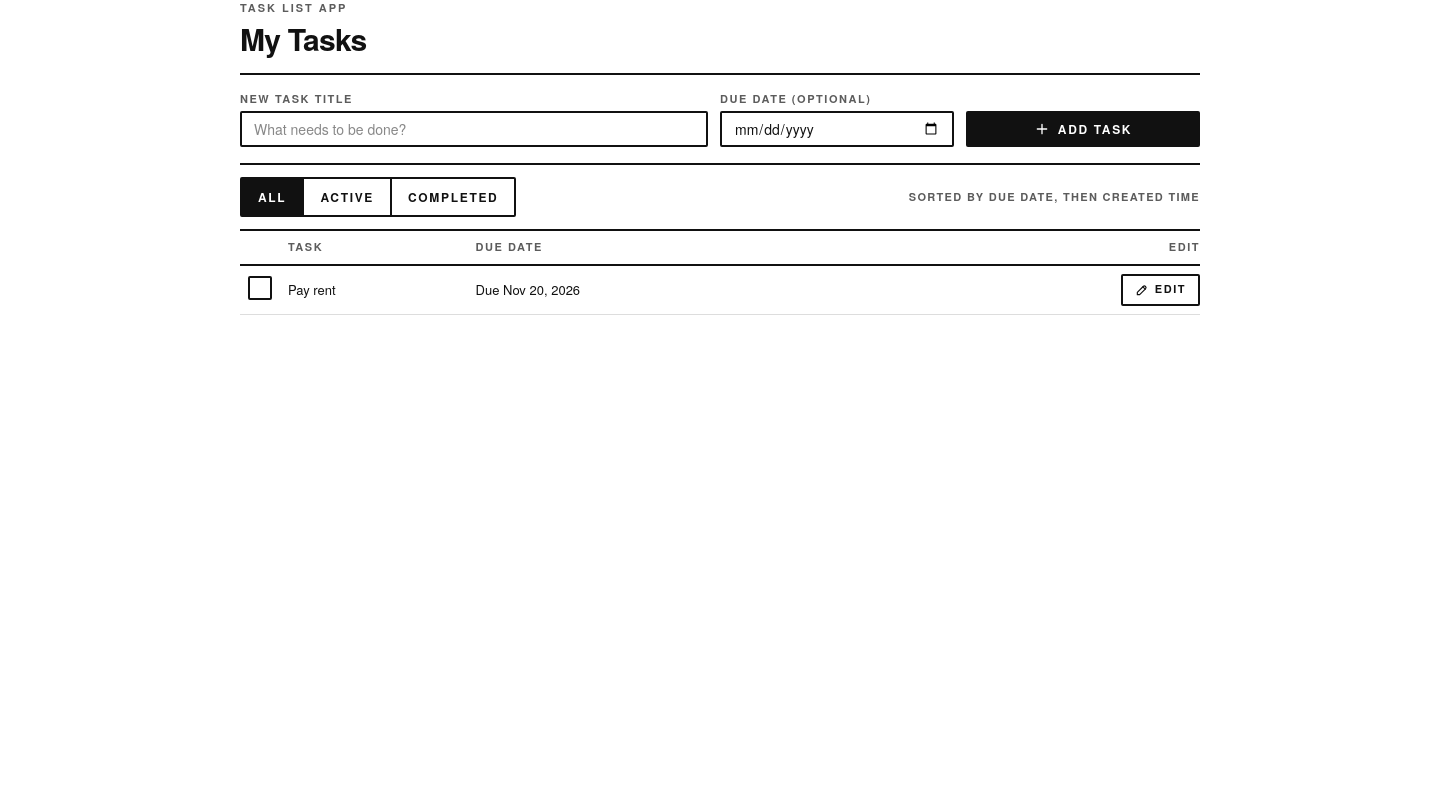
Test: Tasks screen › [AC-018] clearing the due date in the edit modal sends due_date: null and shows 'No due date'
Check: the text "Pay rent" is shown, box [288,280,336,299]
Click the button named "Edit \"Pay rent\"" at x=1160, y=290, box [1121,274,1200,306]
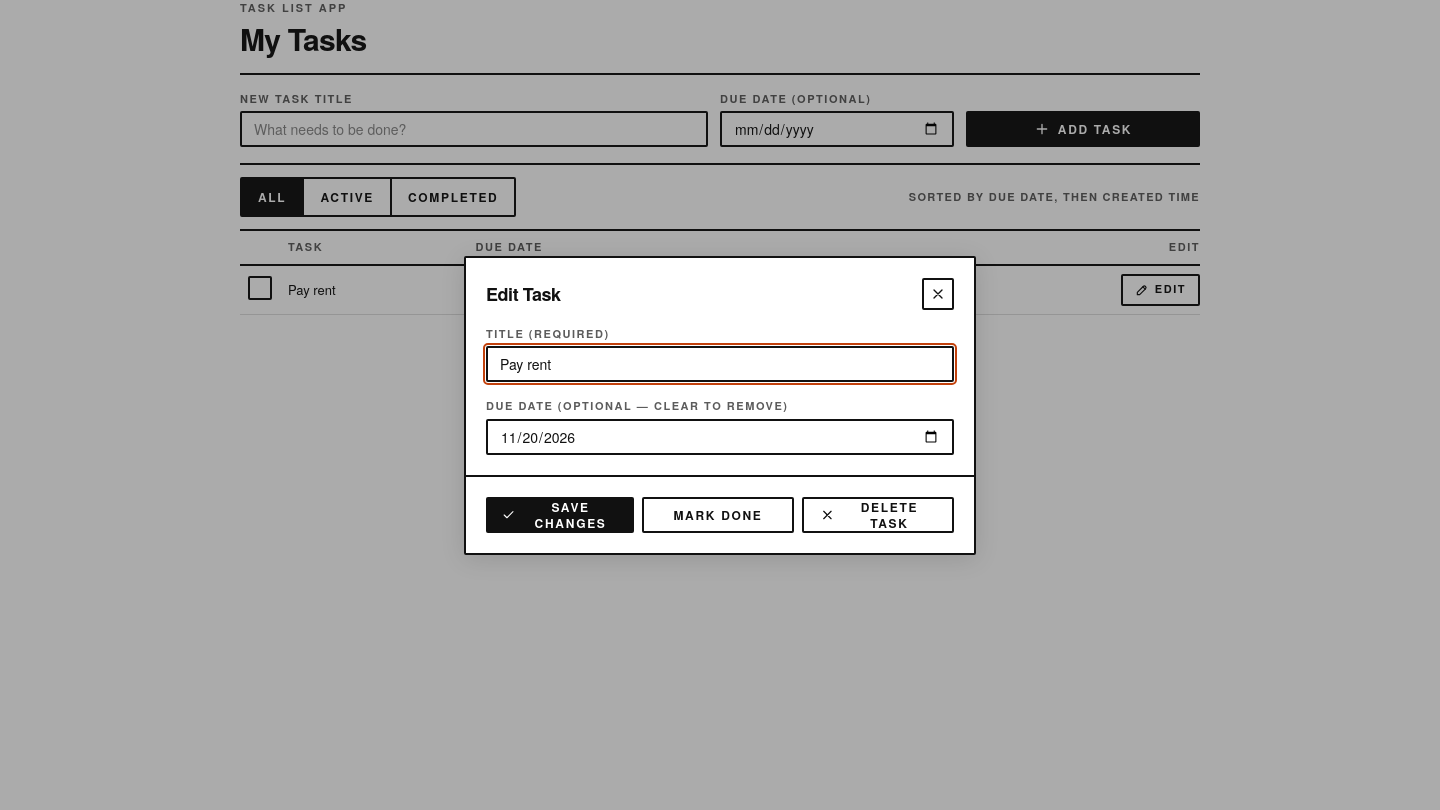
// Clear the due date input.
Clear the date field labelled "Due date (optional — clear to remove)" at x=720, y=436, box [486,418,954,454]
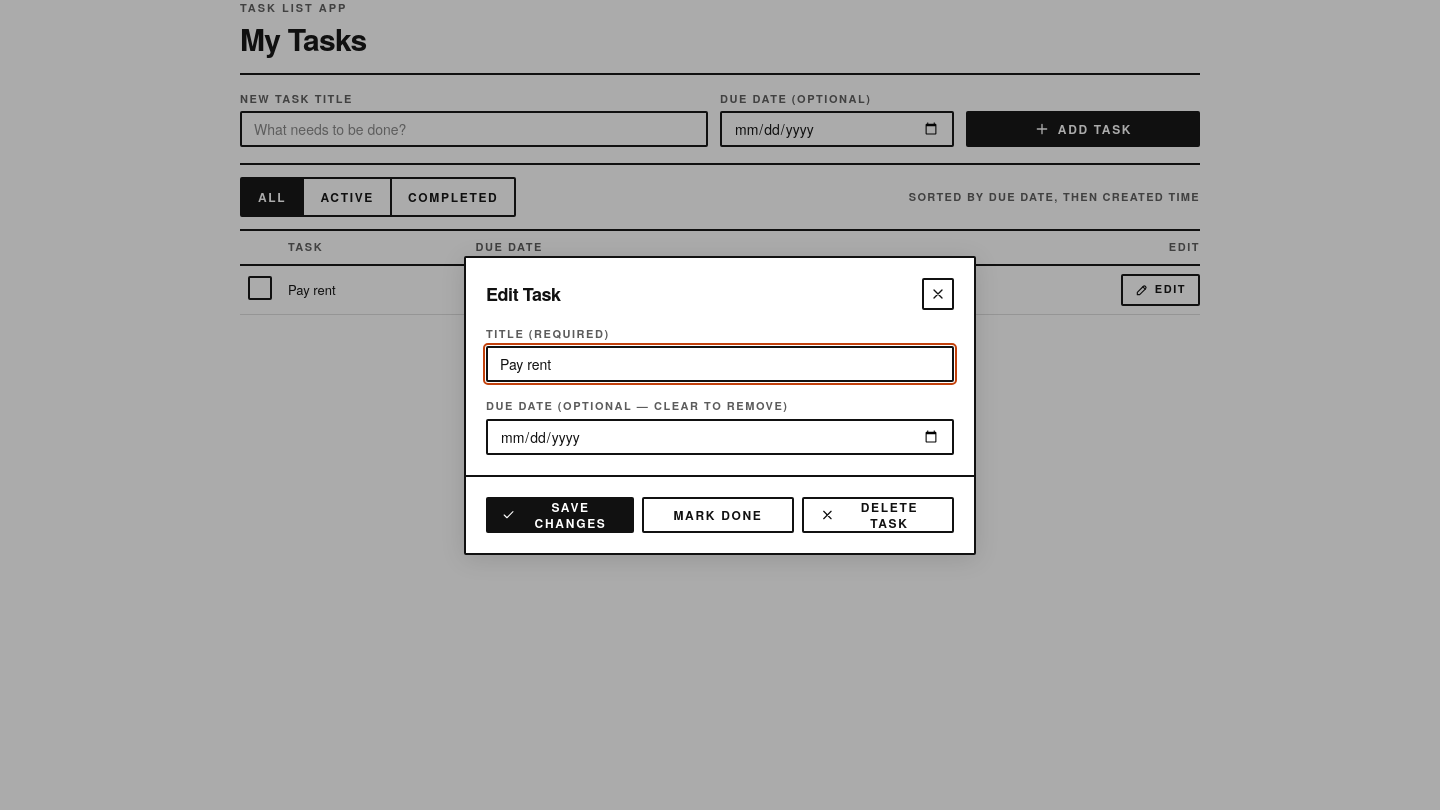
Click the button "Save Changes" at x=560, y=514, box [486,496,634,532]
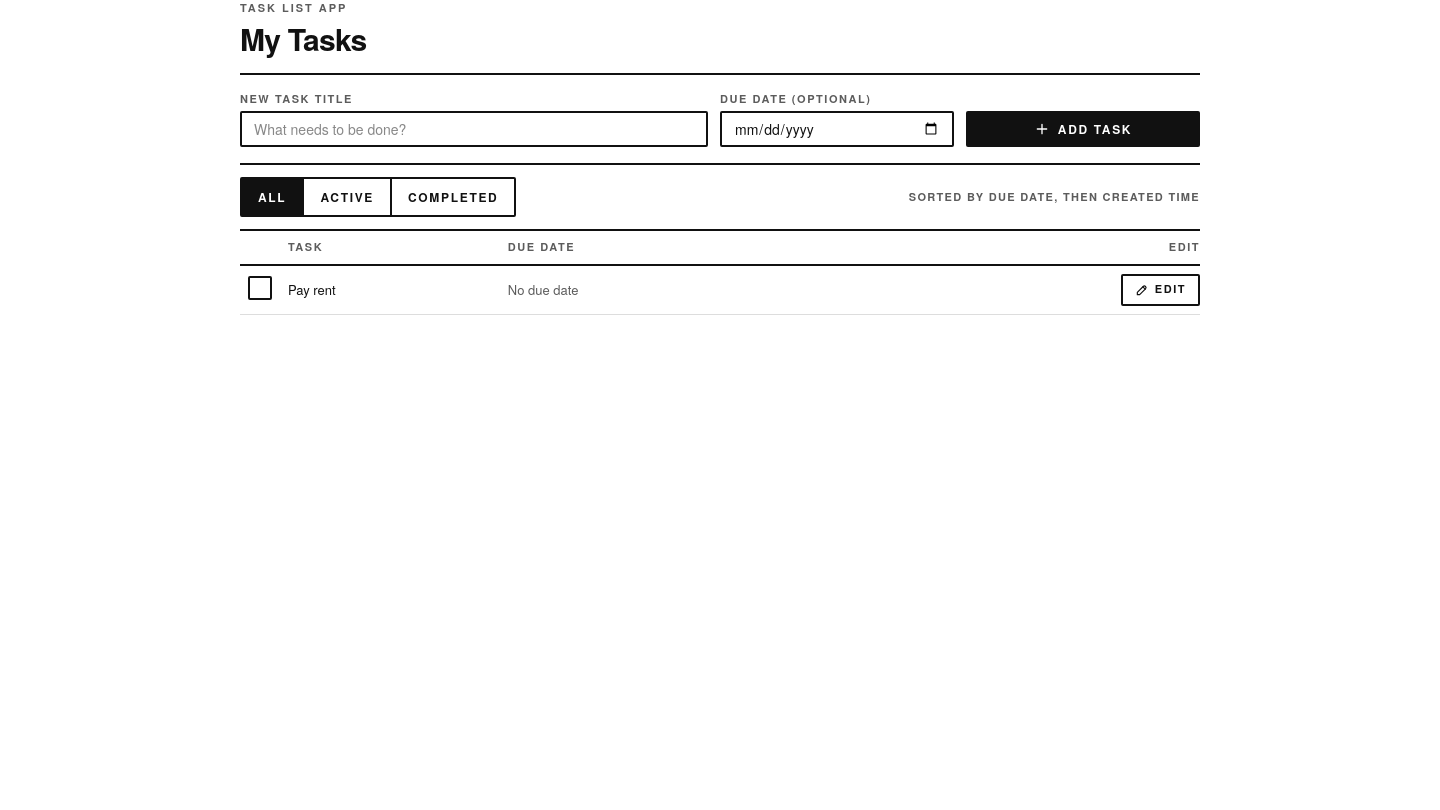
Check: the text "No due date" is shown, box [508,264,834,314]
